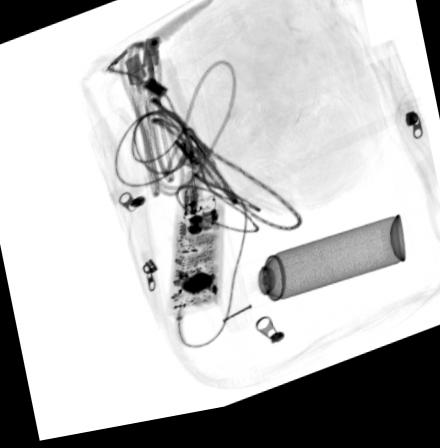Sprayer: (224, 226, 408, 321)
